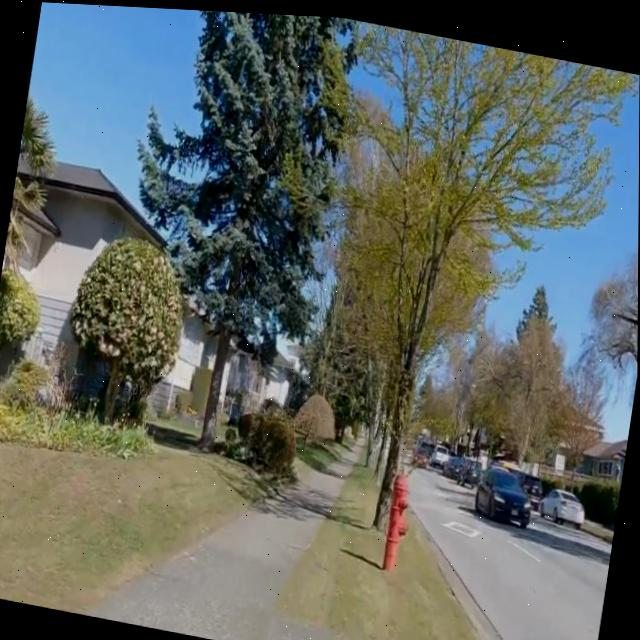Automobile: (476, 460, 530, 521), (542, 483, 584, 523), (516, 465, 543, 505), (459, 453, 482, 482), (443, 449, 465, 475), (431, 439, 449, 464), (413, 438, 429, 462)
Road: (412, 466, 613, 640)
Sidewalk: (85, 445, 356, 640)
